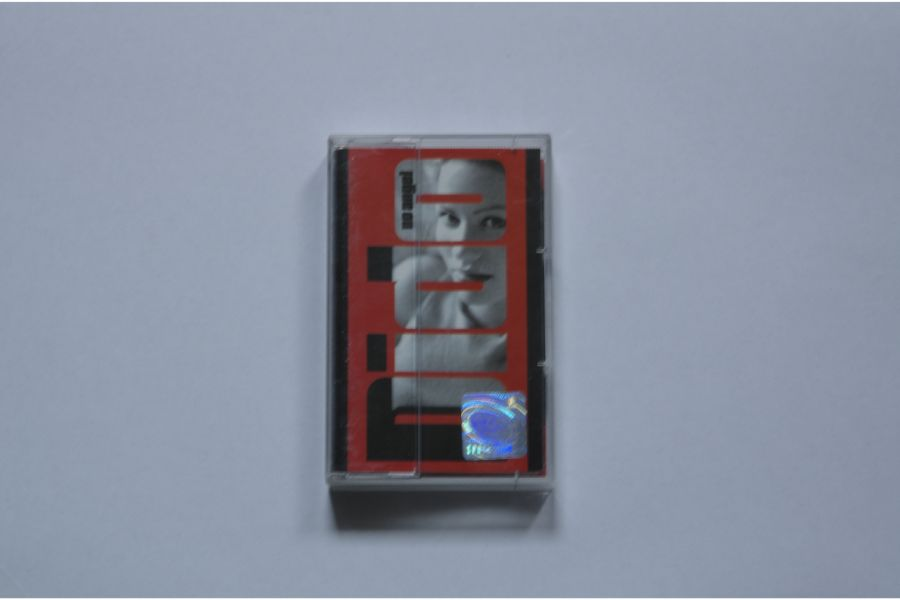album: (324, 130, 555, 493)
